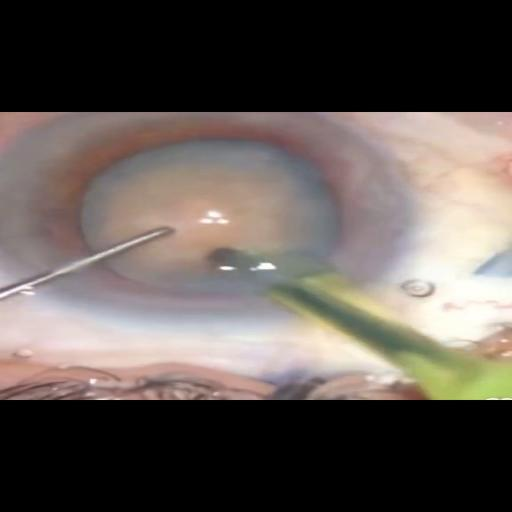catarata: (83, 136, 346, 301)
cornea: (0, 101, 436, 324)
pupil: (39, 122, 351, 305)
